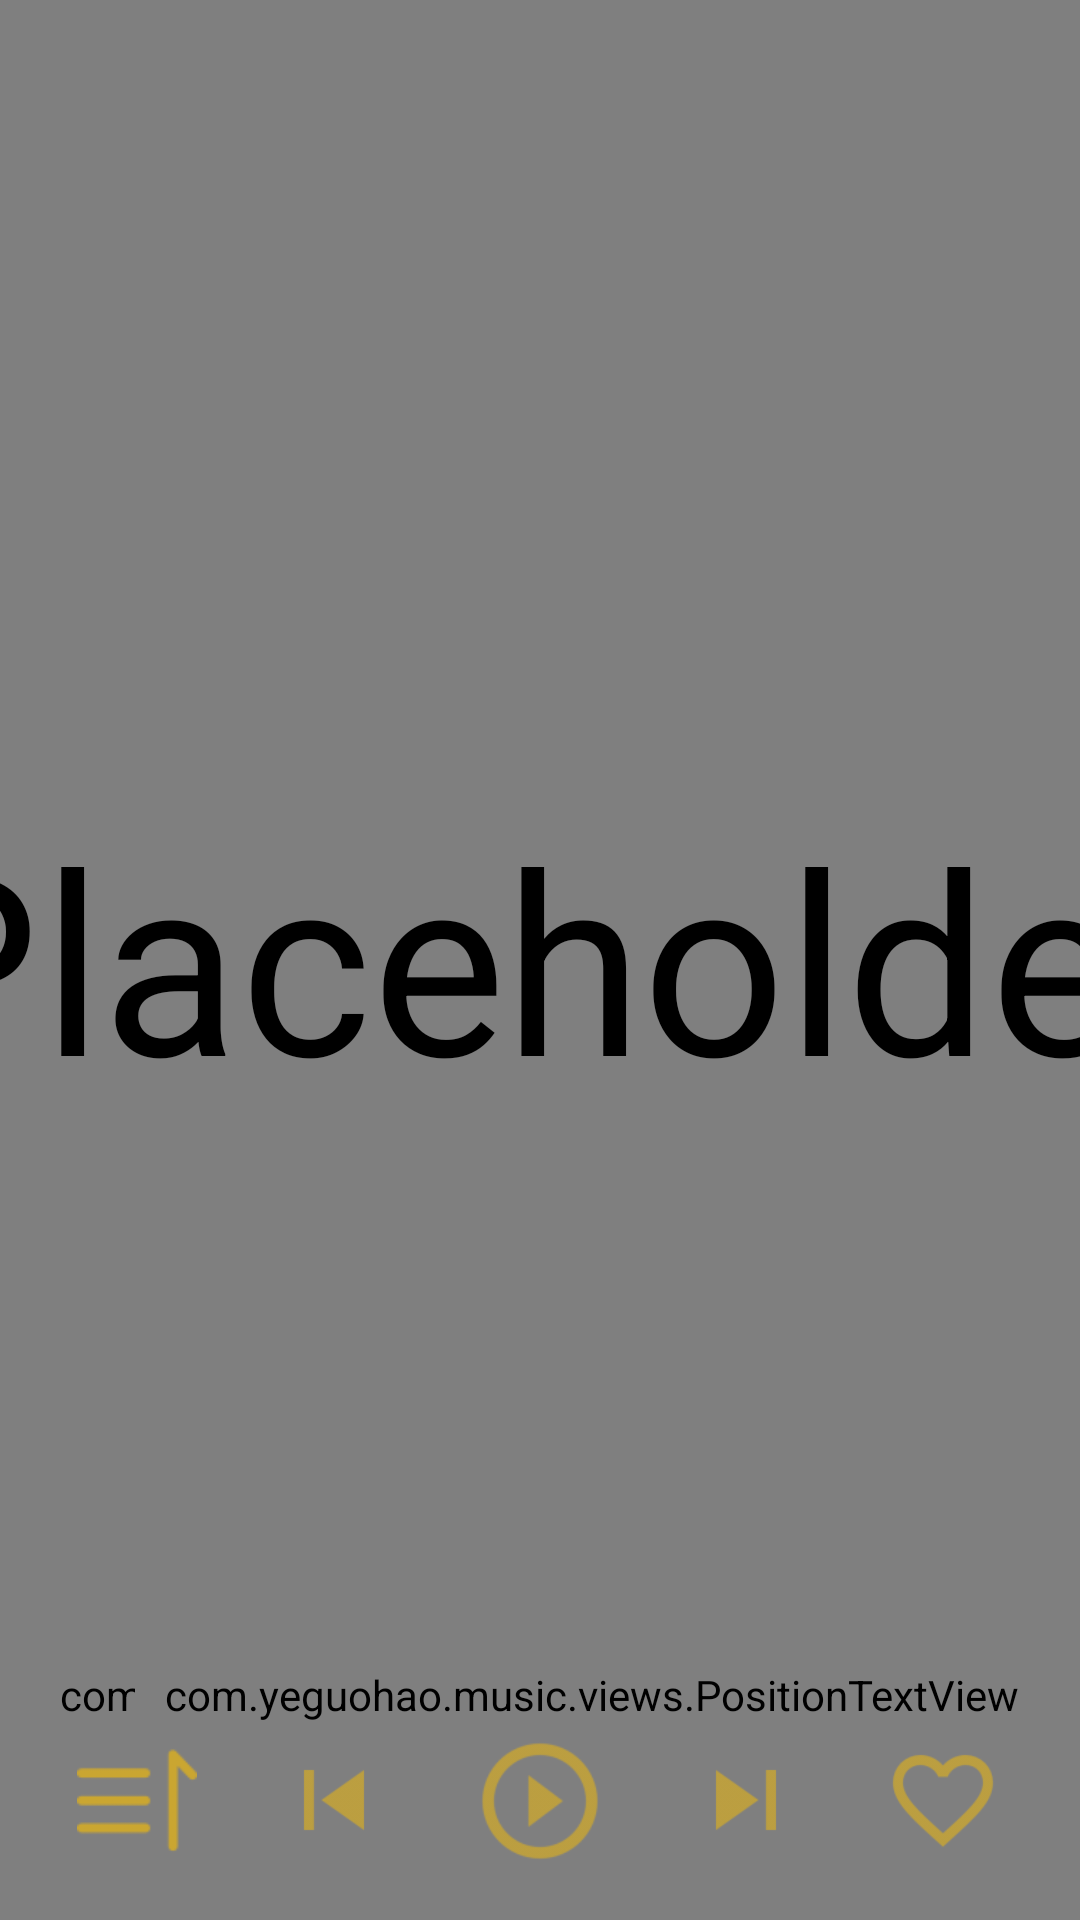

Named icons in this screenshot (1080w x 1920h) and their centers, point (x, y):
favorite: point (943, 1800)
player next: point (746, 1800)
player prev: point (334, 1800)
sequence: point (137, 1800)
